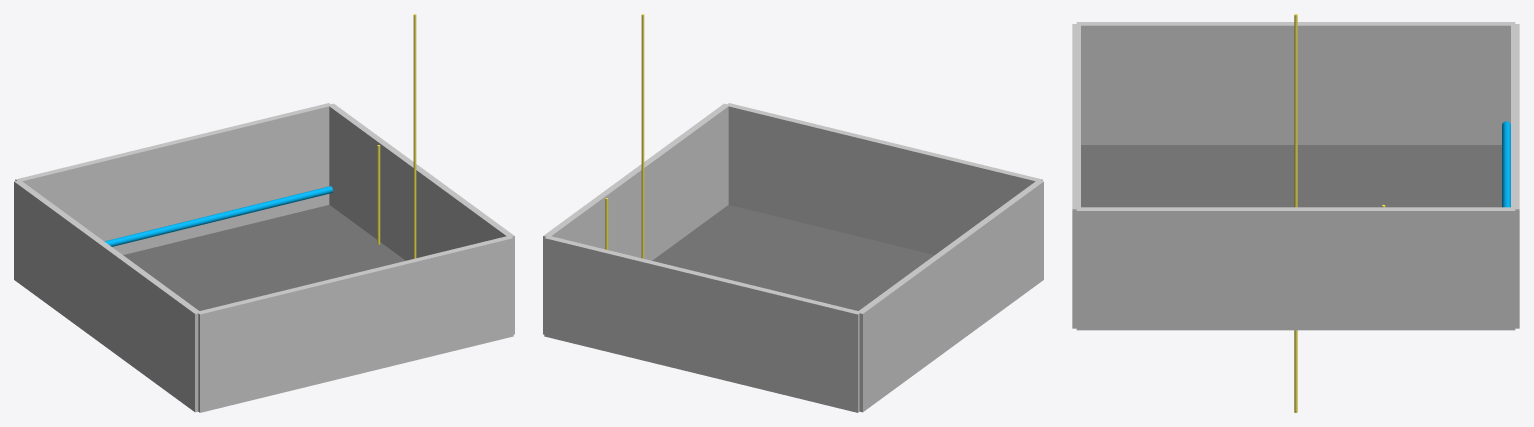
Rendered from omninew.glb.
The picture shows the model from 3 angles, left to right: view 1: azimuth 30°, elevation 25°; view 2: azimuth 150°, elevation 25°; view 3: azimuth 270°, elevation 25°; orthographic projection. The views are drawn at different scales.
Visible parts, largest first — view 1: Wall_2, Wall_1, Wall_4, Foundation_Floor, Wall_3, Plumbing_Blue_Line, Electrical_Yellow_Line; view 2: Wall_1, Wall_2, Wall_4, Foundation_Floor, Wall_3, Electrical_Yellow_Line; view 3: Wall_3, Wall_4, Foundation_Floor, Wall_1, Wall_2, Electrical_Yellow_Line, Plumbing_Blue_Line.
Boxes of the visible parts, bbox=[...] form: Wall_2: bbox=[197, 235, 513, 412]; Wall_1: bbox=[15, 103, 331, 254]; Wall_4: bbox=[14, 180, 199, 412]; Foundation_Floor: bbox=[123, 205, 405, 310]; Wall_3: bbox=[329, 103, 514, 334]; Plumbing_Blue_Line: bbox=[104, 186, 332, 246]; Electrical_Yellow_Line: bbox=[413, 14, 416, 258]; Wall_1: bbox=[544, 235, 860, 412]; Wall_2: bbox=[726, 103, 1042, 254]; Wall_4: bbox=[858, 180, 1043, 412]; Foundation_Floor: bbox=[652, 205, 934, 310]; Wall_3: bbox=[543, 103, 728, 334]; Electrical_Yellow_Line: bbox=[641, 14, 644, 258]; Wall_3: bbox=[1076, 207, 1515, 330]; Wall_4: bbox=[1076, 22, 1515, 144]; Foundation_Floor: bbox=[1081, 145, 1501, 207]; Wall_1: bbox=[1511, 24, 1519, 328]; Wall_2: bbox=[1072, 24, 1080, 328]; Electrical_Yellow_Line: bbox=[1294, 14, 1297, 412]; Plumbing_Blue_Line: bbox=[1502, 121, 1510, 207].
Bounding box in the file's own units: 10.2 × 10 × 10.2.
